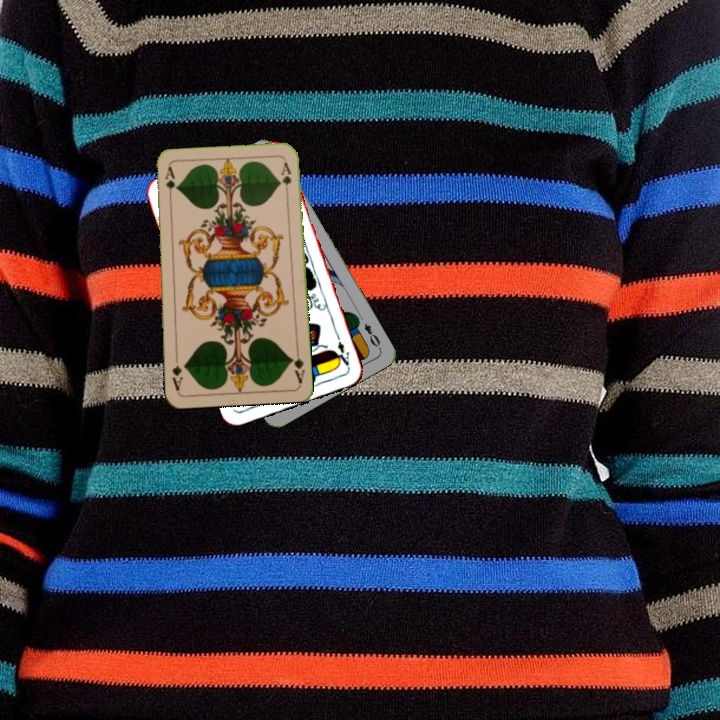EA: (331, 331, 352, 371)
EO: (360, 319, 384, 352)
GA: (287, 345, 307, 385), (161, 164, 175, 204)
